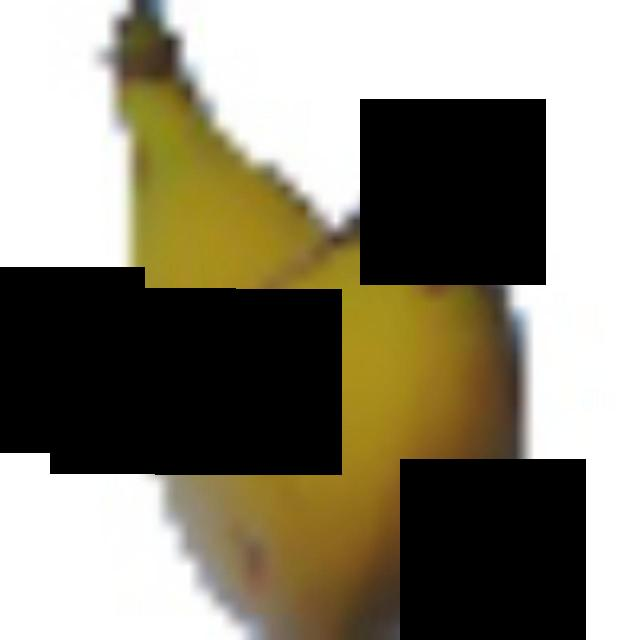banana: (76, 0, 544, 634)
